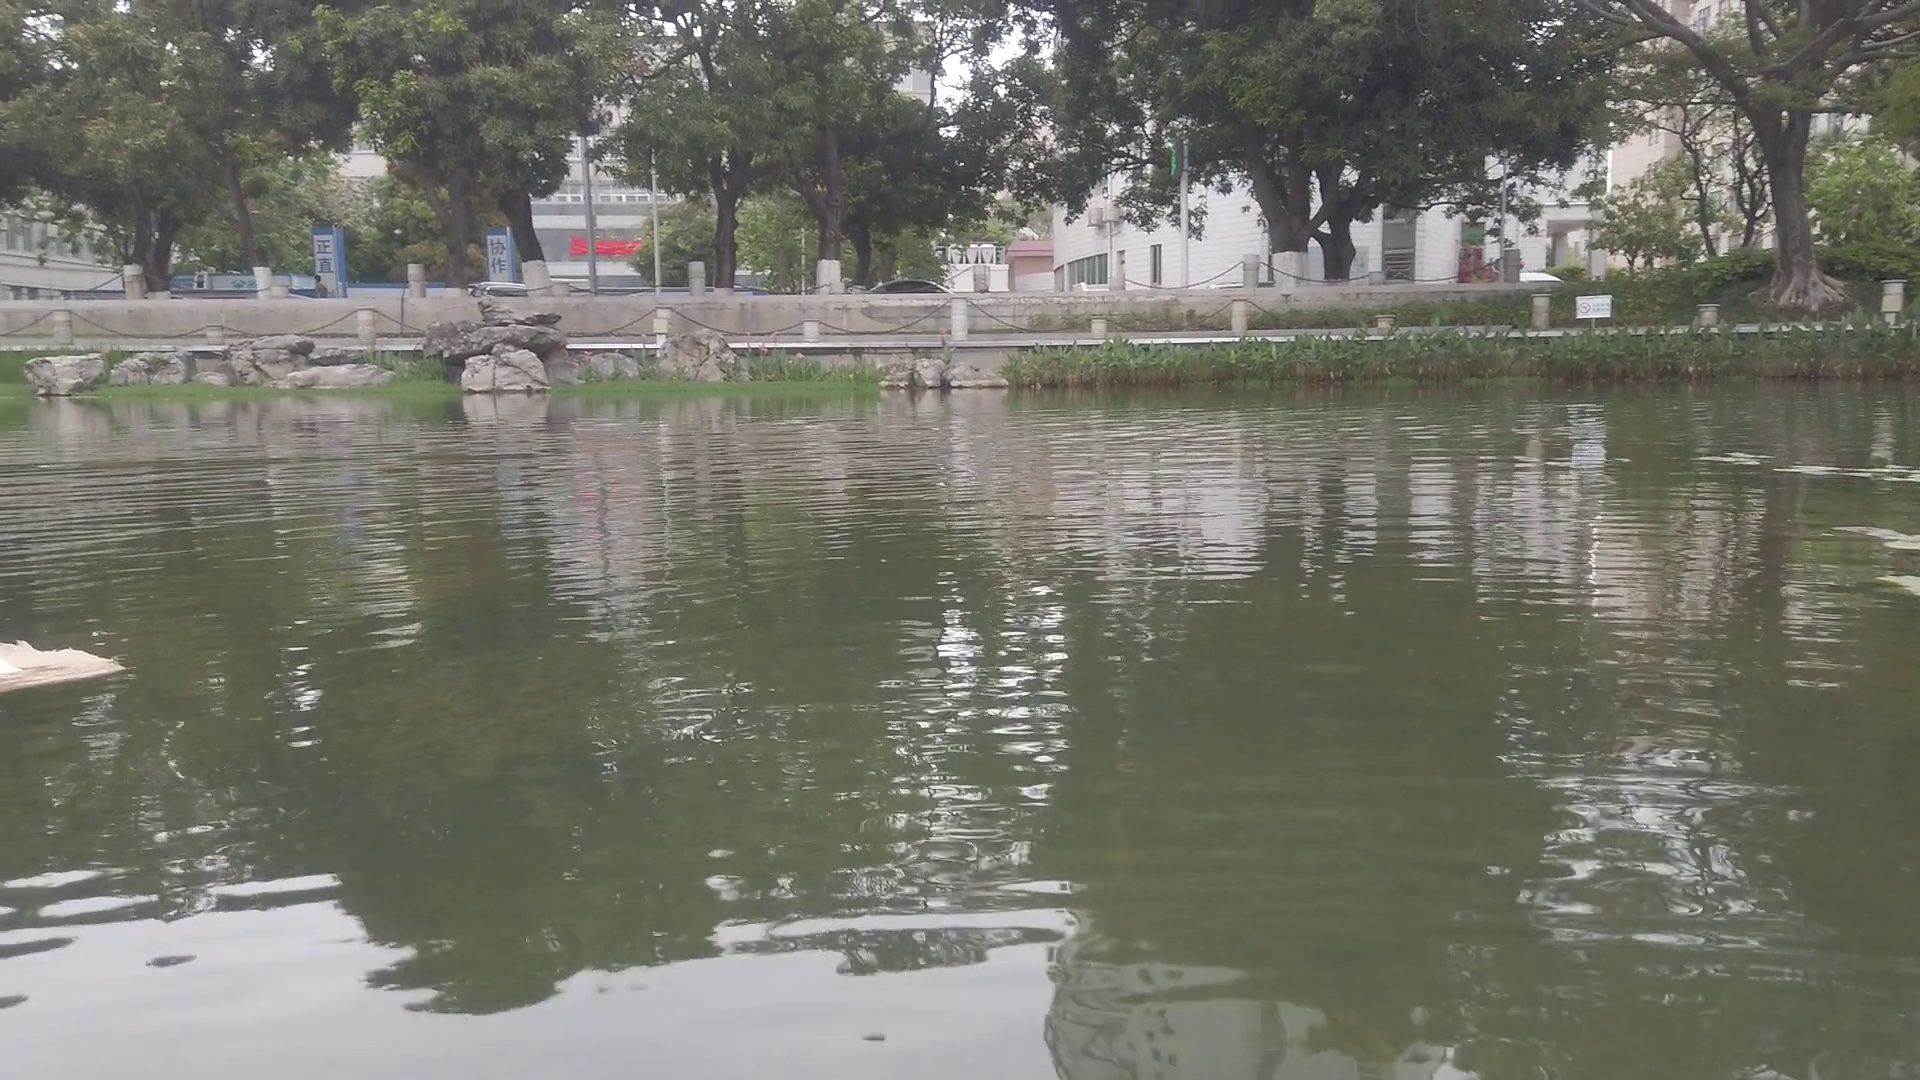paper: (1, 636, 117, 686)
